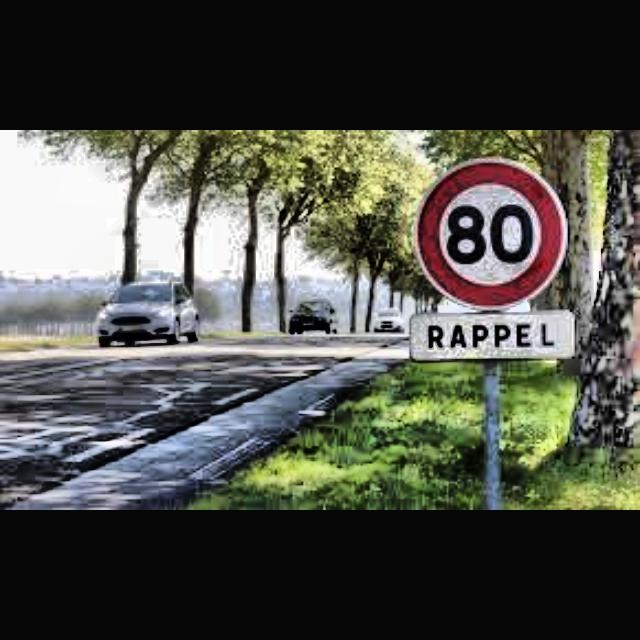speed_80: (420, 158, 564, 306)
